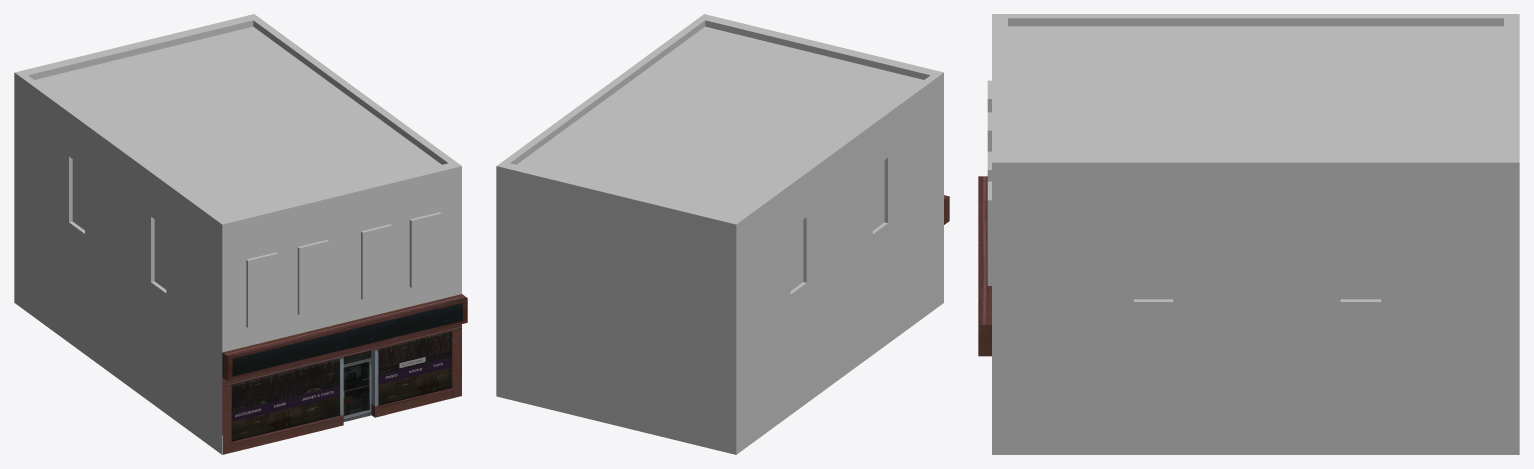
The picture shows the model from 3 angles, left to right: view 1: azimuth 30°, elevation 25°; view 2: azimuth 150°, elevation 25°; view 3: azimuth 270°, elevation 25°; orthographic projection. The views are drawn at different scales.
Visible parts, largest first — view 1: Cube; view 2: Cube; view 3: Cube.
Boxes of the visible parts, x1=… form: Cube: x1=14, y1=14, x2=467, y2=454; Cube: x1=496, y1=14, x2=949, y2=454; Cube: x1=978, y1=14, x2=1519, y2=454.
Bounding box in the file's own units: 1195 × 1097 × 1840.
